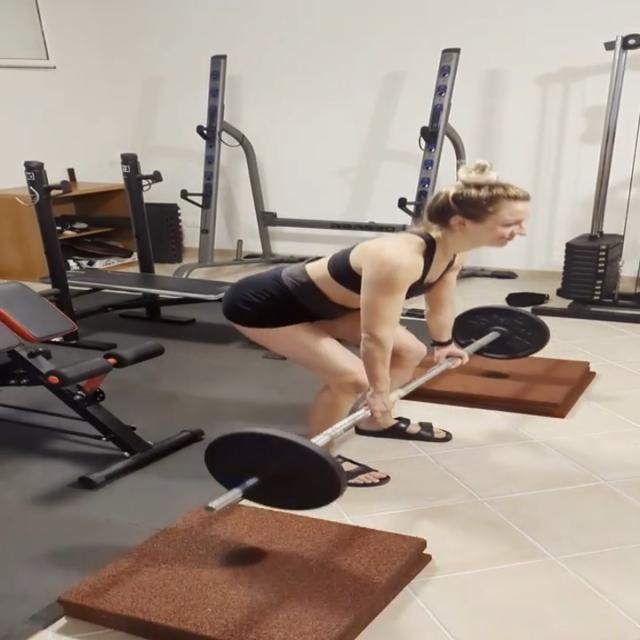barbell: (195, 428, 347, 518)
